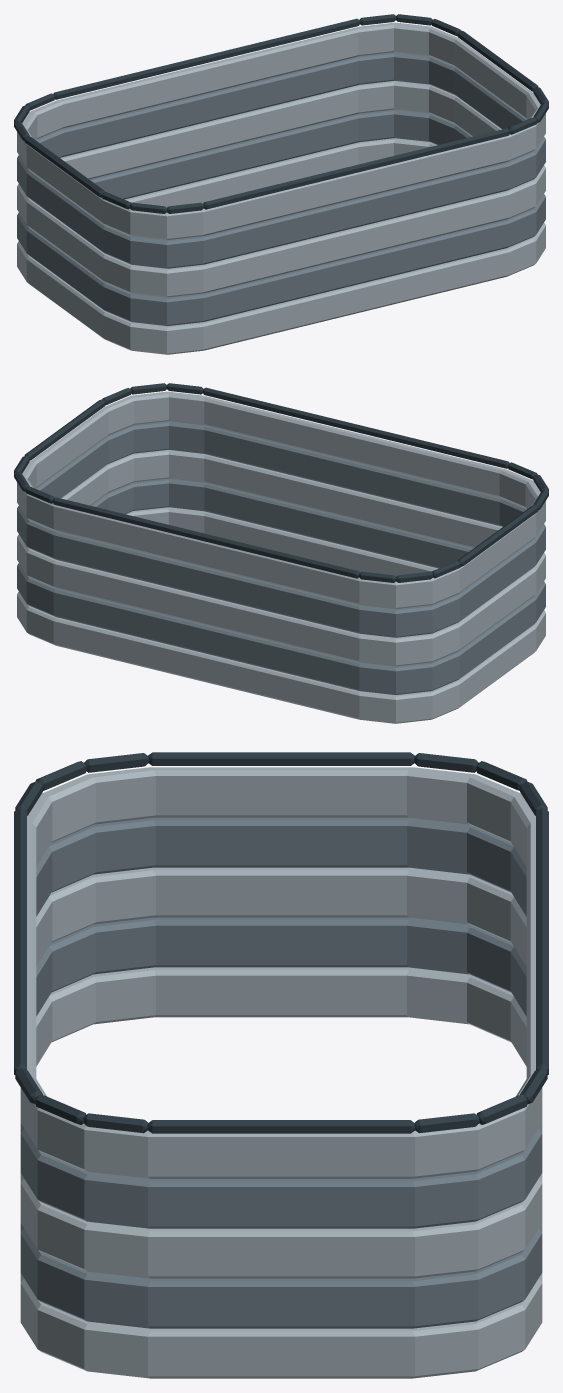
The model's file is b11_corrugated_steel_raised_bed.glb.
The picture shows the model from 3 angles, top to bottom: view 1: azimuth 30°, elevation 25°; view 2: azimuth 150°, elevation 25°; view 3: azimuth 270°, elevation 25°; orthographic projection. The views are drawn at different scales.
Parts seen in each view (by area): view 1: b11_corrugated_steel_raised_bed; view 2: b11_corrugated_steel_raised_bed; view 3: b11_corrugated_steel_raised_bed.
Boxes of the visible parts, x1,y1,x2,y2 form: b11_corrugated_steel_raised_bed: (14, 14, 548, 354); b11_corrugated_steel_raised_bed: (14, 383, 548, 723); b11_corrugated_steel_raised_bed: (14, 752, 548, 1378).
Size of the model in its own units: 1.52 by 0.495 by 0.9226.
